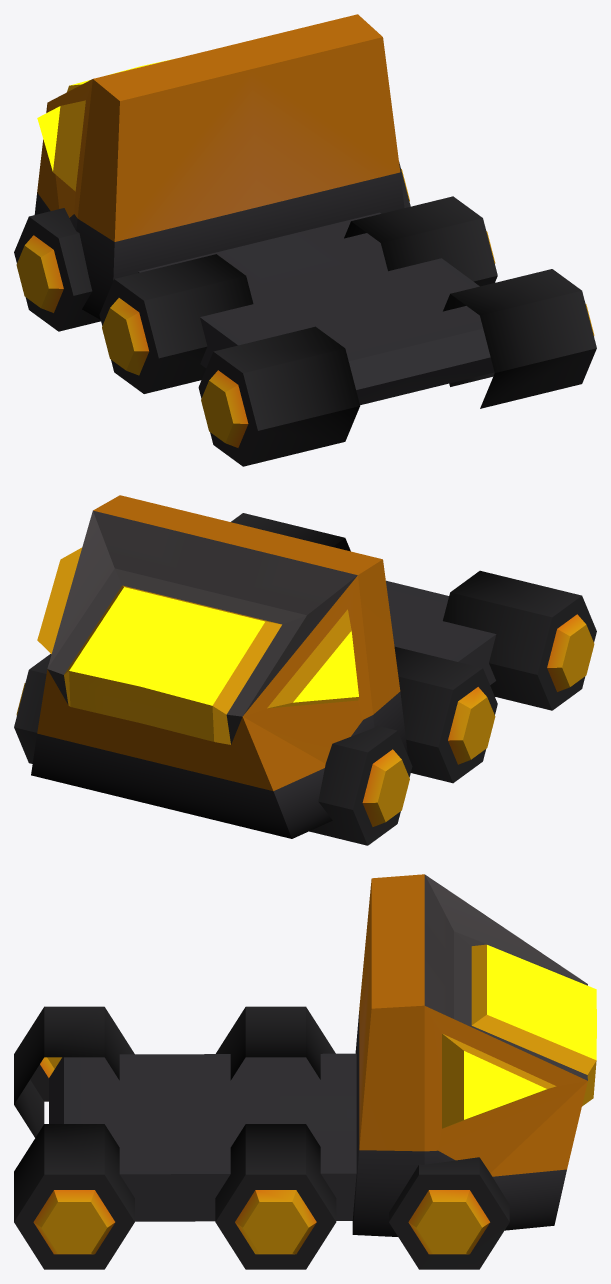
The model's file is lorry-1.glb.
The picture shows the model from 3 angles, top to bottom: view 1: azimuth 30°, elevation 25°; view 2: azimuth 150°, elevation 25°; view 3: azimuth 270°, elevation 25°; orthographic projection.
Visible parts, largest first — view 1: Cylinder; view 2: Cylinder; view 3: Cylinder.
Boxes of the visible parts, x1,y1,x2,y2 form: Cylinder: [14, 14, 596, 466]; Cylinder: [14, 495, 596, 845]; Cylinder: [14, 874, 596, 1269].
Size of the model in its own units: 6.81 by 4.36 by 9.38.
